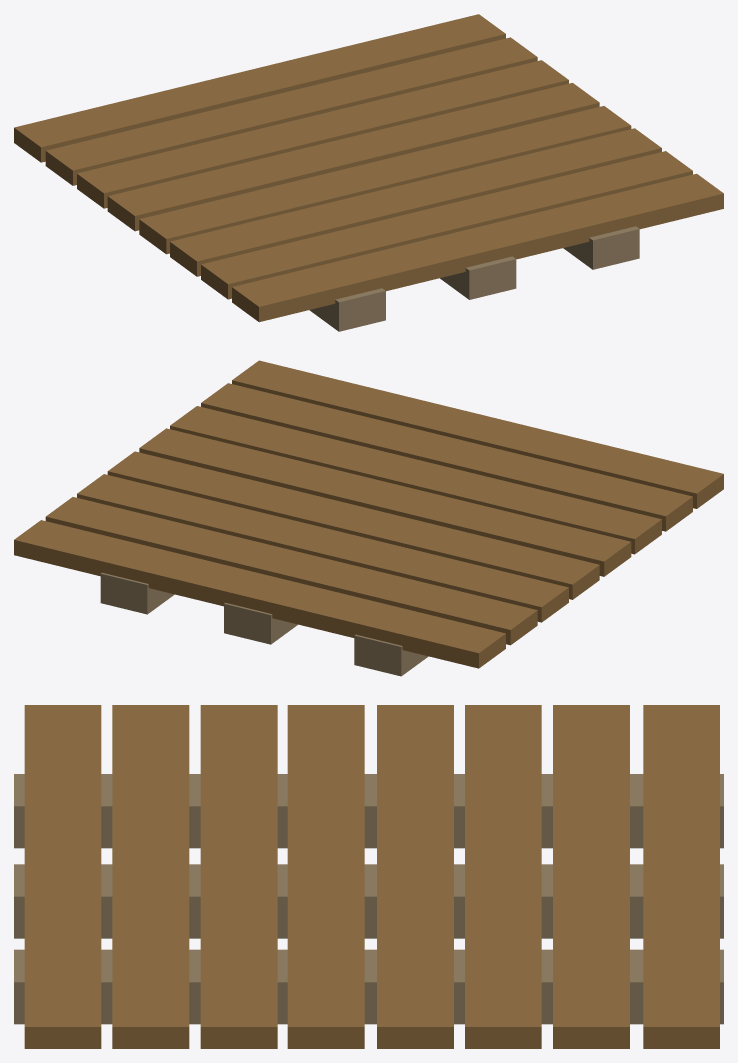
File: sol.fbx
3 views of the same model, one above another, from view 1: azimuth 30°, elevation 25°; view 2: azimuth 150°, elevation 25°; view 3: azimuth 270°, elevation 25° (orthographic). The views are drawn at different scales.
Visible parts, largest first — view 1: Cube.008, Cube.003, Cube, Cube.002, Cube.006, Cube.001, Cube.007, Cube.004, Cube.009, Cube.010, Cube.005; view 2: Cube.003, Cube.002, Cube.004, Cube.001, Cube.007, Cube, Cube.008, Cube.006, Cube.010, Cube.005, Cube.009; view 3: Cube.004, Cube.008, Cube.007, Cube.006, Cube, Cube.001, Cube.002, Cube.003, Cube.010, Cube.009, Cube.005.
Boxes of the visible parts, <box> form: Cube.008: <box>232,173,723,322</box>; Cube.003: <box>14,14,505,162</box>; Cube: <box>107,83,599,231</box>; Cube.002: <box>45,37,537,185</box>; Cube.006: <box>170,128,661,276</box>; Cube.001: <box>77,60,568,208</box>; Cube.007: <box>201,151,692,299</box>; Cube.004: <box>139,106,631,254</box>; Cube.009: <box>440,256,516,299</box>; Cube.010: <box>563,226,639,269</box>; Cube.005: <box>309,288,385,331</box>; Cube.003: <box>14,520,505,668</box>; Cube.002: <box>45,497,537,645</box>; Cube.004: <box>139,428,631,576</box>; Cube.001: <box>77,474,568,622</box>; Cube.007: <box>201,383,692,531</box>; Cube: <box>107,451,599,599</box>; Cube.008: <box>232,360,723,508</box>; Cube.006: <box>170,406,661,554</box>; Cube.010: <box>100,572,174,614</box>; Cube.005: <box>354,634,428,676</box>; Cube.009: <box>224,603,297,644</box>; Cube.004: <box>287,705,364,1048</box>; Cube.008: <box>24,705,101,1048</box>; Cube.007: <box>112,705,189,1048</box>; Cube.006: <box>200,705,277,1048</box>; Cube: <box>377,705,453,1048</box>; Cube.001: <box>465,705,541,1048</box>; Cube.002: <box>553,705,629,1048</box>; Cube.003: <box>643,705,719,1048</box>; Cube.010: <box>14,949,723,1024</box>; Cube.009: <box>14,864,723,938</box>; Cube.005: <box>14,774,723,848</box>.
Size of the model in its own units: 1118 by 93.85 by 1042.
